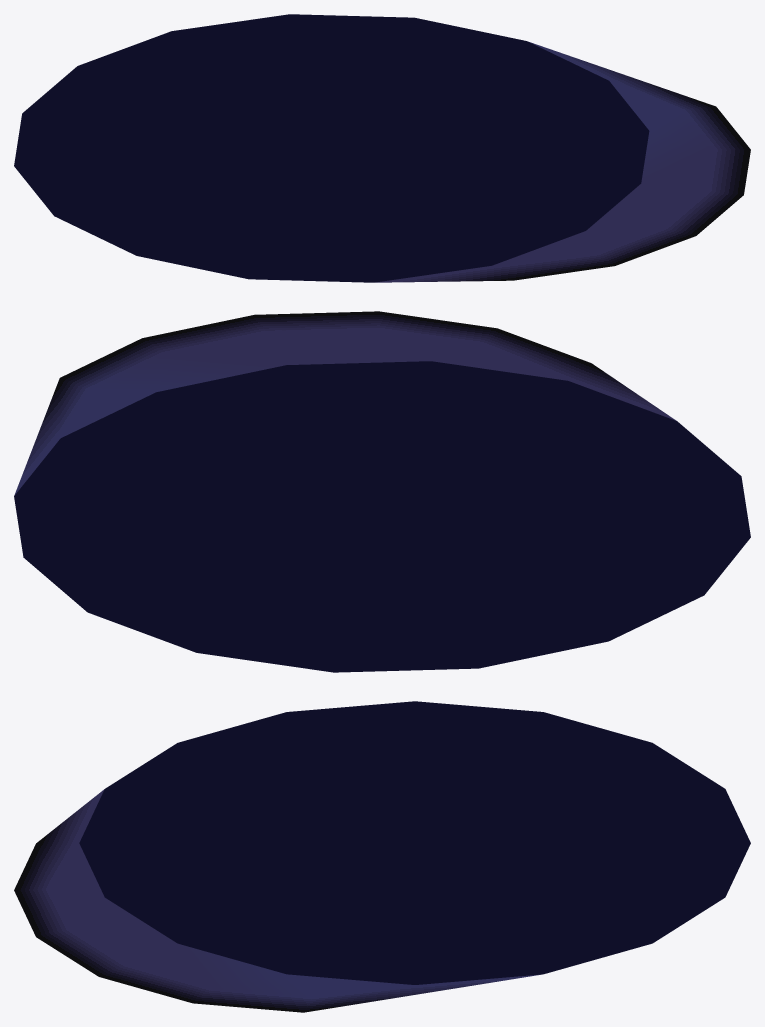
The picture shows the model from 3 angles, top to bottom: view 1: azimuth 30°, elevation 25°; view 2: azimuth 150°, elevation 25°; view 3: azimuth 270°, elevation 25°; orthographic projection. The views are drawn at different scales.
Parts seen in each view (by area): view 1: Joint_0_Object_0; view 2: Joint_0_Object_0; view 3: Joint_0_Object_0.
Part boxes in pixels (bbox=[...]): Joint_0_Object_0: bbox=[14, 14, 750, 282]; Joint_0_Object_0: bbox=[14, 311, 750, 672]; Joint_0_Object_0: bbox=[14, 701, 750, 1012].
Bounding box in the file's own units: 496 × 0 × 496.
1 material, 1 textured.
